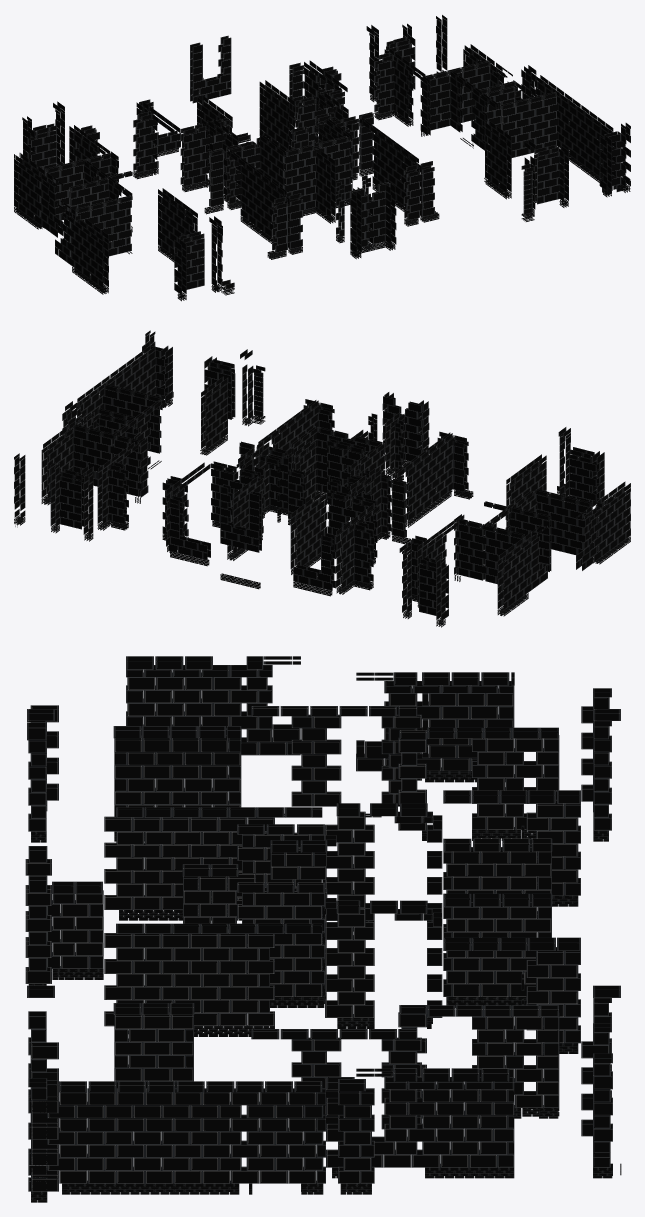
Rendered from edges.glb.
3 views of the same model, one above another, from view 1: azimuth 30°, elevation 25°; view 2: azimuth 150°, elevation 25°; view 3: azimuth 270°, elevation 25° (orthographic). The views are drawn at different scales.
Visible parts, largest first — view 1: E_F02, E_F03; view 2: E_F02, E_F03; view 3: E_F02.
Boxes of the visible parts, box(x1,y1,x2,y2) form: E_F02: box(14, 15, 630, 301); E_F03: box(190, 35, 231, 68); E_F02: box(14, 330, 630, 627); E_F03: box(220, 484, 261, 517); E_F02: box(25, 656, 621, 1202).
Size of the model in its own units: 22 by 3.94 by 13.
1 material, 1 textured.
